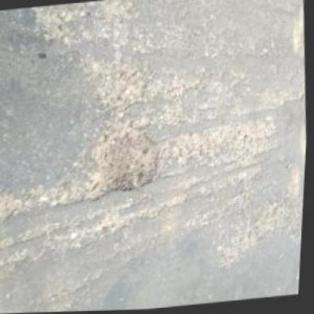Hueco: (84, 129, 165, 205)
